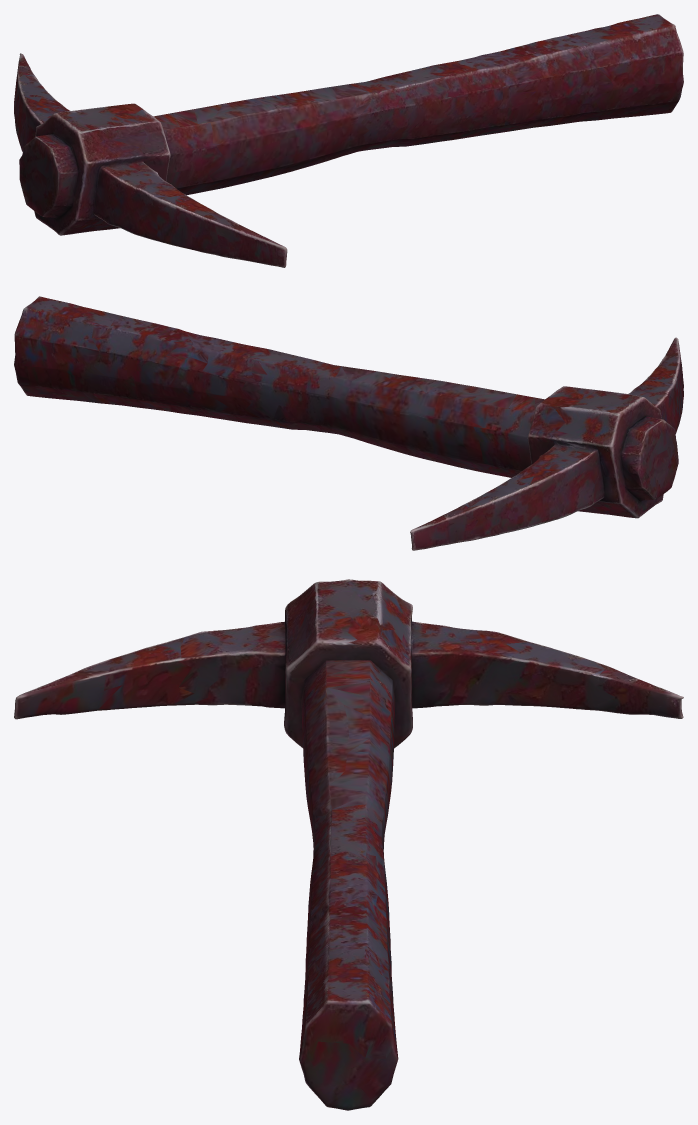
File: tool_pickaxe_b_idle.glb
3 renders of one model, top to bottom at view 1: azimuth 30°, elevation 25°; view 2: azimuth 150°, elevation 25°; view 3: azimuth 270°, elevation 25°, orthographic. The views are drawn at different scales.
Parts seen in each view (by area): view 1: tripo_node_677c1517-2bf7-4217-abe8-05a332d5d47b; view 2: tripo_node_677c1517-2bf7-4217-abe8-05a332d5d47b; view 3: tripo_node_677c1517-2bf7-4217-abe8-05a332d5d47b.
Part boxes in pixels (x1,y1,x2,y2): tripo_node_677c1517-2bf7-4217-abe8-05a332d5d47b: (14,14,683,267); tripo_node_677c1517-2bf7-4217-abe8-05a332d5d47b: (14,296,683,550); tripo_node_677c1517-2bf7-4217-abe8-05a332d5d47b: (14,579,683,1110).
Size of the model in its own units: 0.9 by 0.1809 by 0.658.
Materials: 1 (1 with a texture image).
